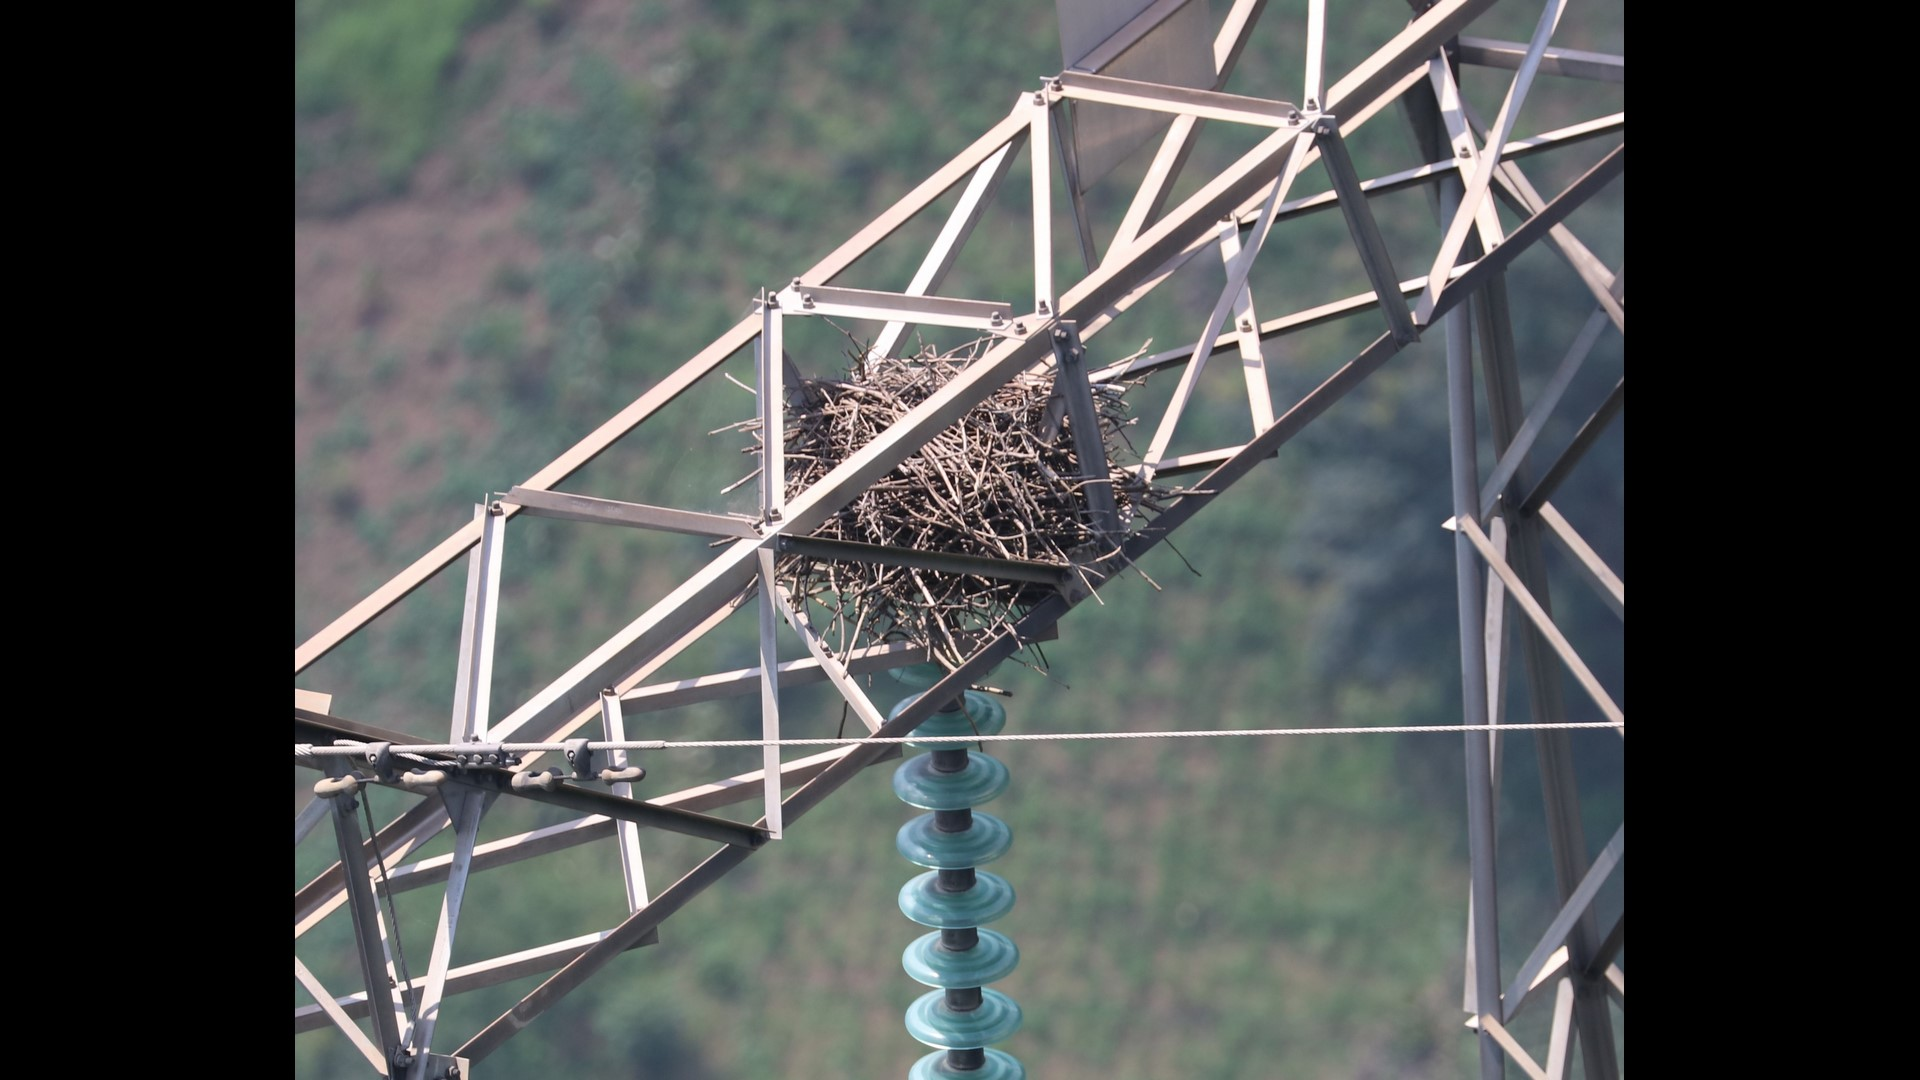niaowo: (735, 318, 1168, 667)
